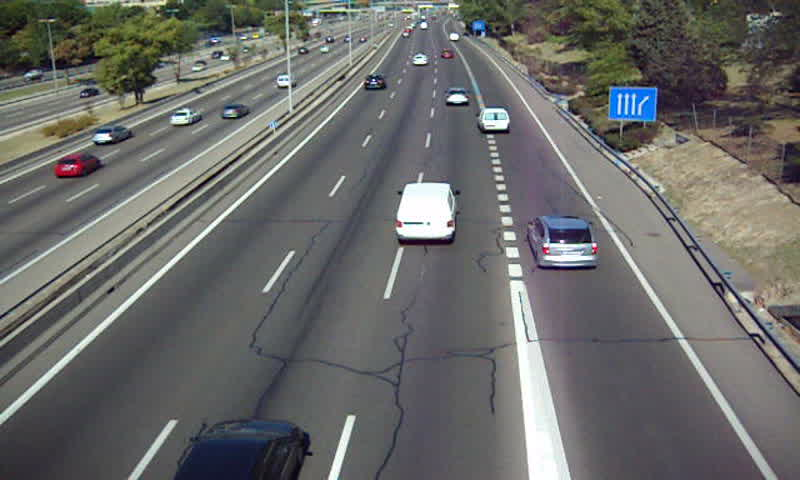car: (528, 216, 598, 268), (442, 87, 472, 106), (364, 74, 386, 91), (410, 52, 429, 66)
van: (396, 184, 456, 243), (479, 108, 509, 133)
